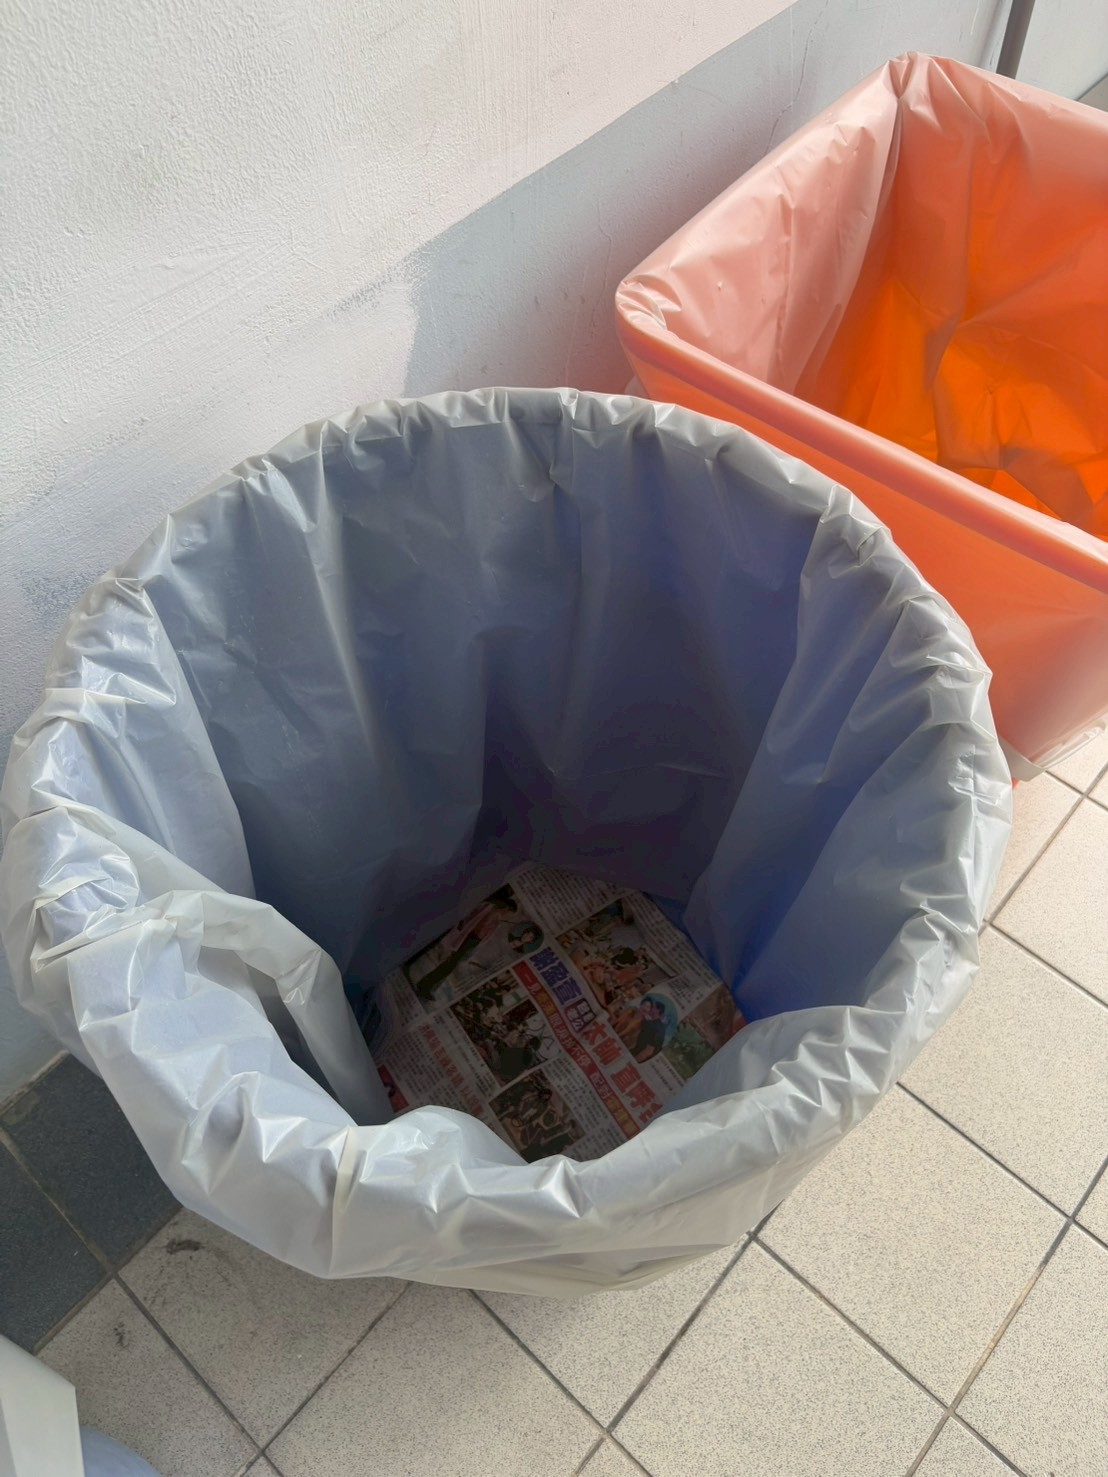normal_bin: (6, 367, 1029, 1333)
